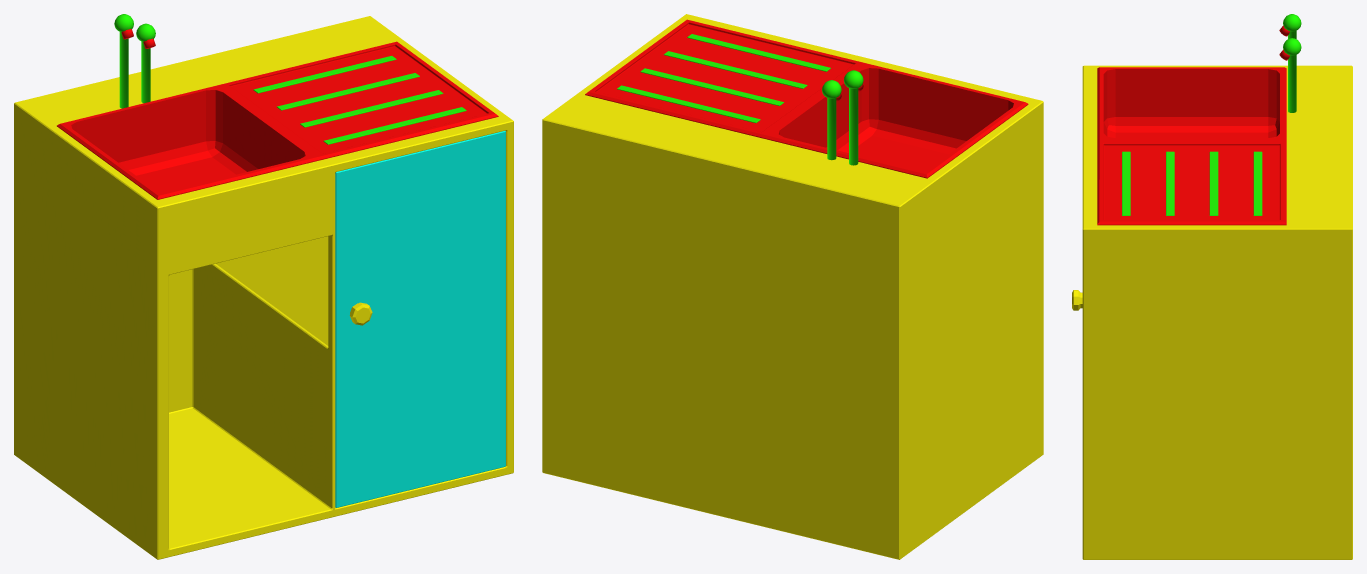
Rendered from umgebung_spuele_low.FBX.
3 renders of one model, left to right at view 1: azimuth 30°, elevation 25°; view 2: azimuth 150°, elevation 25°; view 3: azimuth 270°, elevation 25°, orthographic. The views are drawn at different scales.
Visible parts, largest first — view 1: o_schrank_low, o_schranktuer_low, o_spuele_low, o_rillen_low, o_wasserhahn_low; view 2: o_schrank_low, o_spuele_low, o_rillen_low, o_wasserhahn_low; view 3: o_schrank_low, o_spuele_low, o_rillen_low, o_wasserhahn_low.
Part boxes in pixels (box(x1,y1,x2,y2)): o_schrank_low: box(14, 16, 513, 559); o_schranktuer_low: box(335, 131, 505, 507); o_spuele_low: box(57, 41, 498, 199); o_rillen_low: box(253, 56, 466, 144); o_wasserhahn_low: box(114, 14, 155, 108); o_schrank_low: box(542, 14, 1043, 559); o_spuele_low: box(585, 19, 1028, 178); o_rillen_low: box(617, 34, 830, 123); o_wasserhahn_low: box(822, 70, 863, 165); o_schrank_low: box(1082, 65, 1352, 559); o_spuele_low: box(1097, 67, 1286, 225); o_rillen_low: box(1122, 151, 1262, 215); o_wasserhahn_low: box(1283, 14, 1301, 112).
Bounding box in the file's own units: 143 × 104 × 171.
